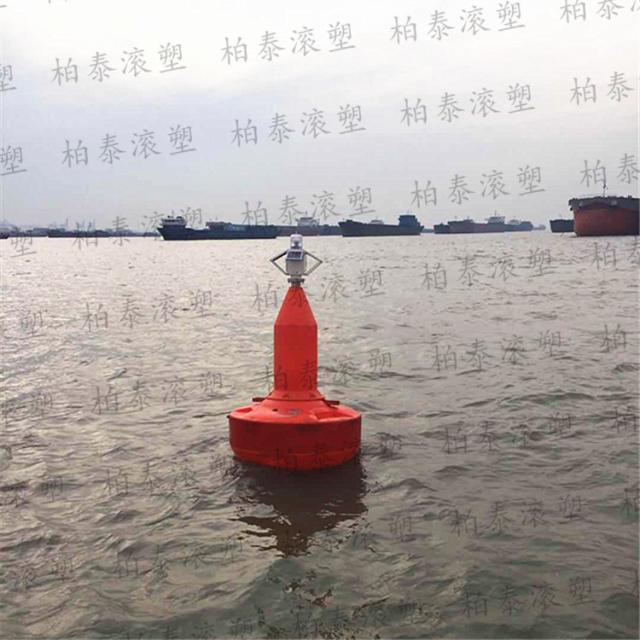buoy: (225, 229, 369, 469)
